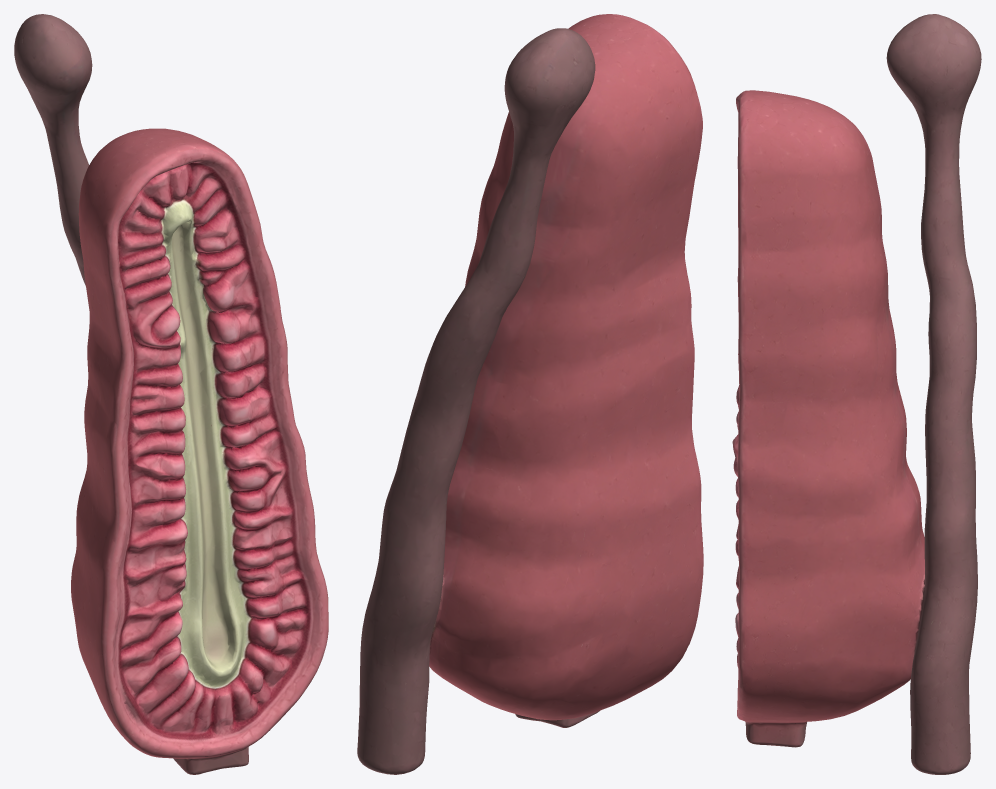
The model's file is Part_VillusCrossSection.glb.
3 views of the same model, side by side, from view 1: azimuth 30°, elevation 25°; view 2: azimuth 150°, elevation 25°; view 3: azimuth 270°, elevation 25° (orthographic). The views are drawn at different scales.
Bounding box in the file's own units: 0.6269 × 1.9 × 0.6291.
Materials: 1 (1 with a texture image).
